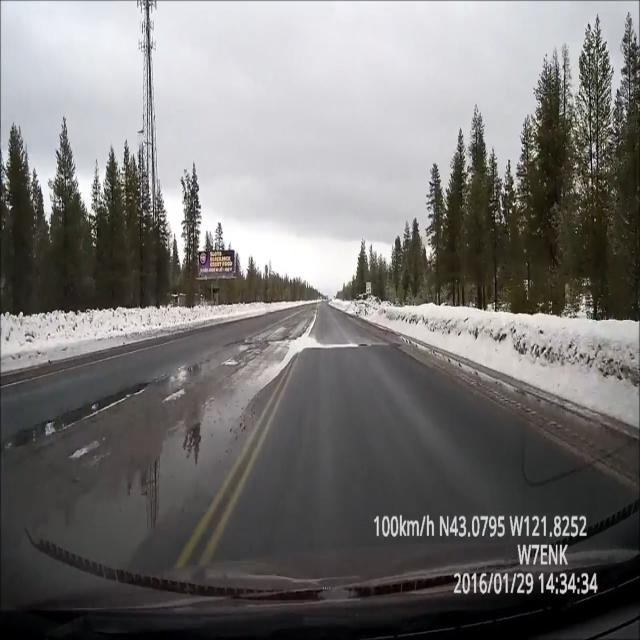Pothole: (279, 334, 319, 357)
